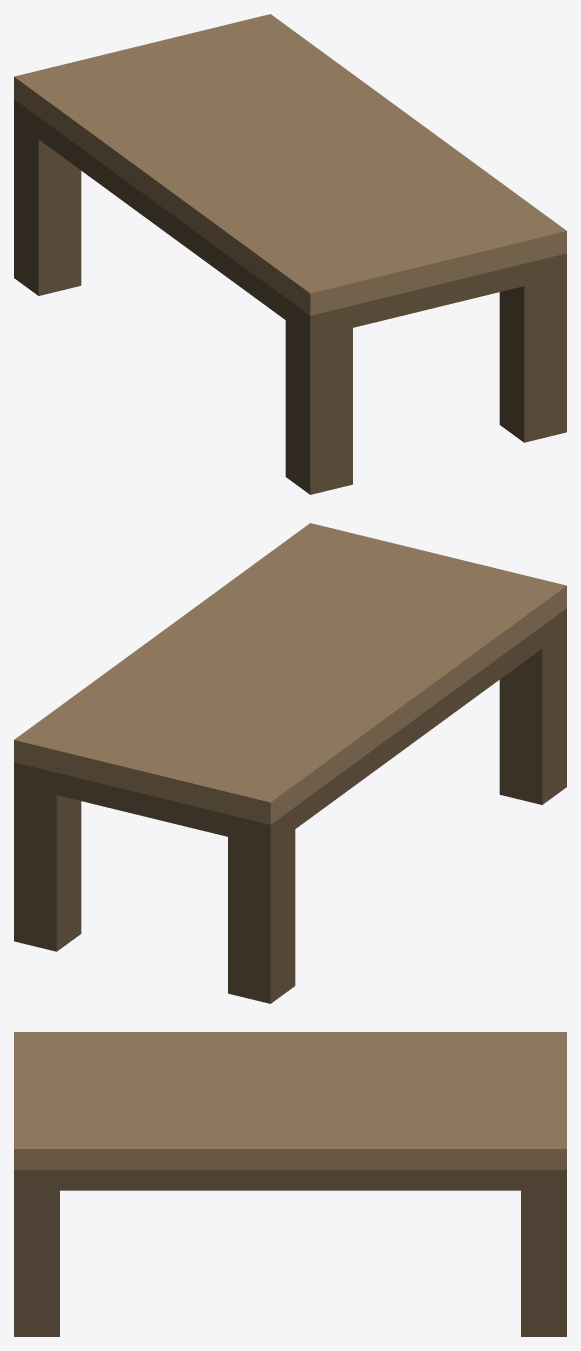
The model's file is escritorio_roble_grande_01.glb.
3 renders of one model, top to bottom at view 1: azimuth 30°, elevation 25°; view 2: azimuth 150°, elevation 25°; view 3: azimuth 270°, elevation 25°, orthographic. The views are drawn at different scales.
Visible parts, largest first — view 1: escritorio_roble_grande; view 2: escritorio_roble_grande; view 3: escritorio_roble_grande.
Part boxes in pixels (left/top/right/bottom): escritorio_roble_grande: left=14, top=14, right=566, bottom=494; escritorio_roble_grande: left=14, top=523, right=566, bottom=1003; escritorio_roble_grande: left=14, top=1032, right=566, bottom=1336.
Size of the model in its own units: 1 by 0.75 by 2.
